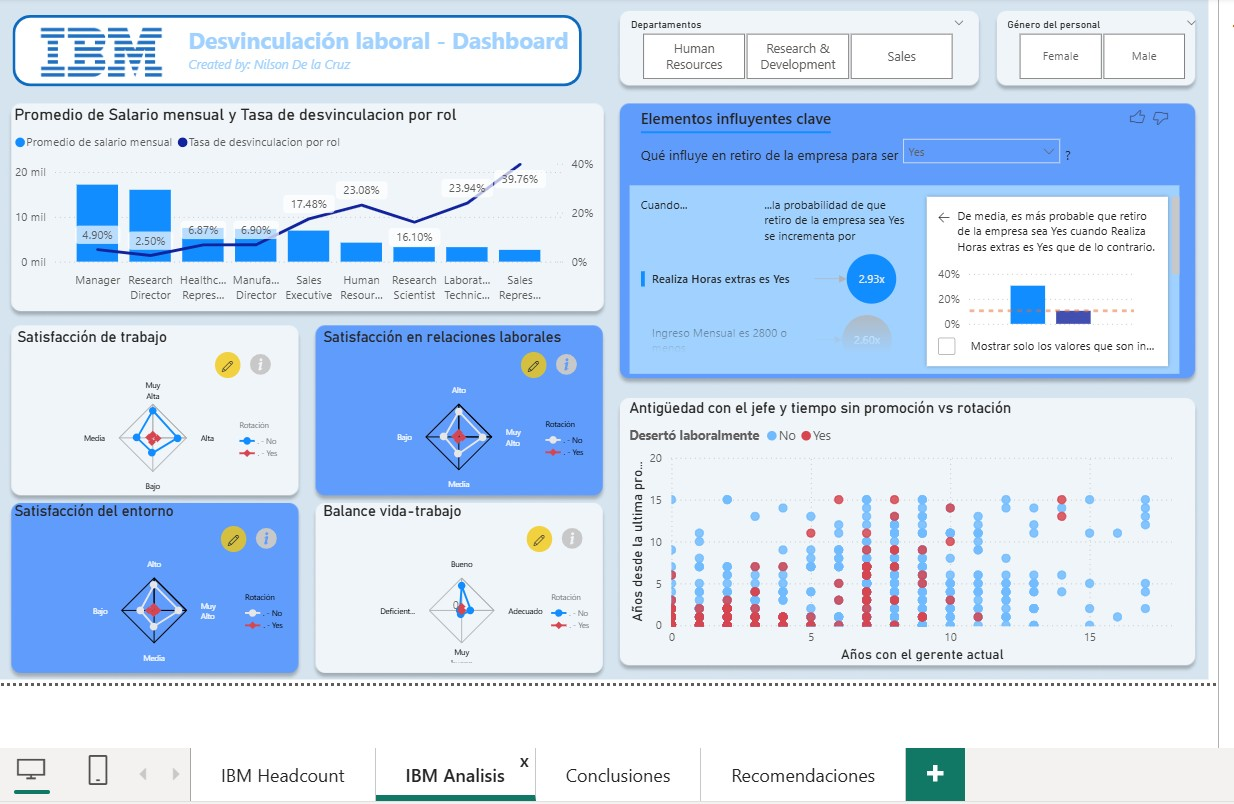

Layout of this report page (visuals, bound fields, positions):
{"tool":"powerbi","page":{"name":"IBM Analisis","canvas":[1280,720],"ordinal":1},"visuals":[{"type":"image","box":[0,0,1269.7,719.7],"z":0},{"type":"keyDriversVisual","fields":{"ExplainBy":["d_condiciones.OverTime","h_empleado.MonthlyIncome","d_satisfaccion.JobSatisfaction","h_empleado.YearsSinceLastPromotion","h_empleado.DistanceFromHome"],"Target":["h_empleado.Attrition"]},"box":[656.1,103,587.9,298.5],"z":1000},{"type":"scatterChart","title":"Antigüedad con el jefe y tiempo sin promoción vs rotación","fields":{"X":["Sum(h_empleado.YearsWithCurrManager)"],"Y":["Sum(h_empleado.YearsSinceLastPromotion)"],"Category":["h_empleado.EmployeeNumber"],"Series":["h_empleado.Attrition"]},"box":[656.1,422.7,587.9,280.3],"z":2000},{"type":"radarChartE89D21F3E4E64221B79113B5015EA81B","title":"Satisfacción de trabajo","fields":{"category":["d_satisfaccion.JobSatisfaction"],"measure":["CountNonNull(h_empleado.Attrition)"],"legend":["h_empleado.Attrition"]},"box":[13.6,348.5,293.9,175.8],"z":3000},{"type":"radarChartE89D21F3E4E64221B79113B5015EA81B","title":"Satisfacción del entorno","fields":{"measure":["CountNonNull(h_empleado.Attrition)"],"legend":["h_empleado.Attrition"],"category":["d_satisfaccion.EnvironmentSatisfaction"]},"box":[10.6,530.3,303,172.7],"z":4000},{"type":"radarChartE89D21F3E4E64221B79113B5015EA81B","title":"Satisfacción en relaciones laborales","fields":{"measure":["CountNonNull(h_empleado.Attrition)"],"legend":["h_empleado.Attrition"],"category":["d_satisfaccion.RelationshipSatisfaction"]},"box":[334.8,348.5,293.9,174.2],"z":5000},{"type":"radarChartE89D21F3E4E64221B79113B5015EA81B","title":"Balance vida-trabajo","fields":{"measure":["CountNonNull(h_empleado.Attrition)"],"legend":["h_empleado.Attrition"],"category":["d_satisfaccion.WorkLifeBalance"]},"box":[334.8,530.3,300,172.7],"z":6000},{"type":"lineClusteredColumnComboChart","title":"Promedio de Salario mensual y Tasa de desvinculacion por rol","fields":{"Category":["d_organizacion.JobRole"],"Y":["Avg(h_empleado.MonthlyIncome)"],"Y2":["_Medidas.Tasa de desvinculacion"]},"box":[10.6,113.6,618.2,215.2],"z":7000},{"type":"slicer","fields":{"Values":["d_demografia.Gender"]},"box":[1045.9,17.3,223.7,75.6],"z":8000},{"type":"slicer","fields":{"Values":["d_organizacion.Department"]},"box":[650.5,17.3,374.9,75.6],"z":9000},{"type":"shape","box":[13.6,18.2,597.7,75],"z":10000},{"type":"image","box":[18.2,29.1,177.3,59.1],"z":11000},{"type":"textbox","box":[194.4,24.3,428.2,68.7],"z":12000}]}

Visuals, with their boxes on the page's 1280x720 design canvas (x1, y1, x2, y2). These are canvas units, not pixel positions in the 1234x804 screenshot, which may show the page scaled, cropped or inside an application window:
image: (0, 0, 1270, 720)
keyDriversVisual - d_condiciones.OverTime x h_empleado.MonthlyIncome: (656, 103, 1244, 402)
"Antigüedad con el jefe y tiempo sin promoción vs rotación" scatterChart: (656, 423, 1244, 703)
"Satisfacción de trabajo" radarChartE89D21F3E4E64221B79113B5015EA81B: (14, 348, 308, 524)
"Satisfacción del entorno" radarChartE89D21F3E4E64221B79113B5015EA81B: (11, 530, 314, 703)
"Satisfacción en relaciones laborales" radarChartE89D21F3E4E64221B79113B5015EA81B: (335, 348, 629, 523)
"Balance vida-trabajo" radarChartE89D21F3E4E64221B79113B5015EA81B: (335, 530, 635, 703)
"Promedio de Salario mensual y Tasa de desvinculacion por rol" lineClusteredColumnComboChart: (11, 114, 629, 329)
slicer - d_demografia.Gender: (1046, 17, 1270, 93)
slicer - d_organizacion.Department: (650, 17, 1025, 93)
shape: (14, 18, 611, 93)
image: (18, 29, 196, 88)
textbox: (194, 24, 623, 93)
